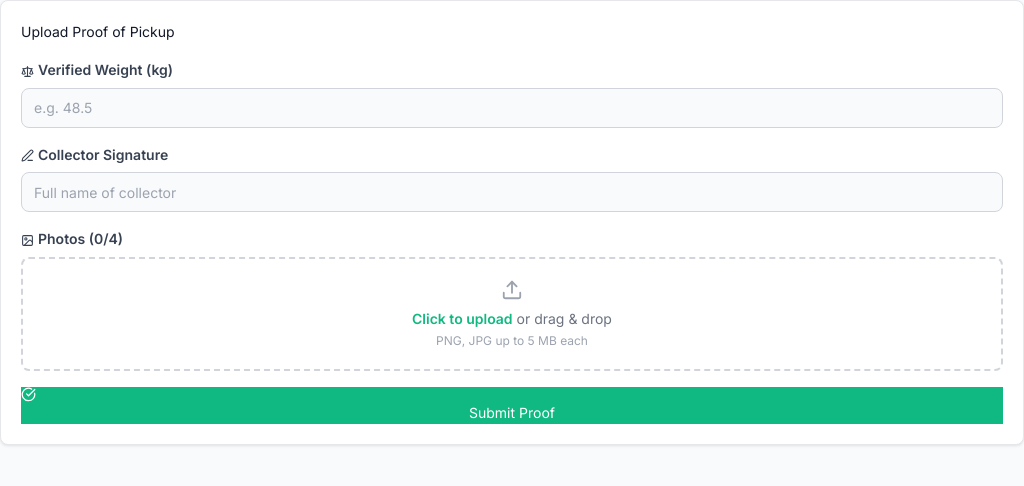
Test: ProofUpload › shows validation error for missing photo
Type "50" into the number field labelled "Verified Weight (kg)" at point(512, 108), box [21,88,1003,128]
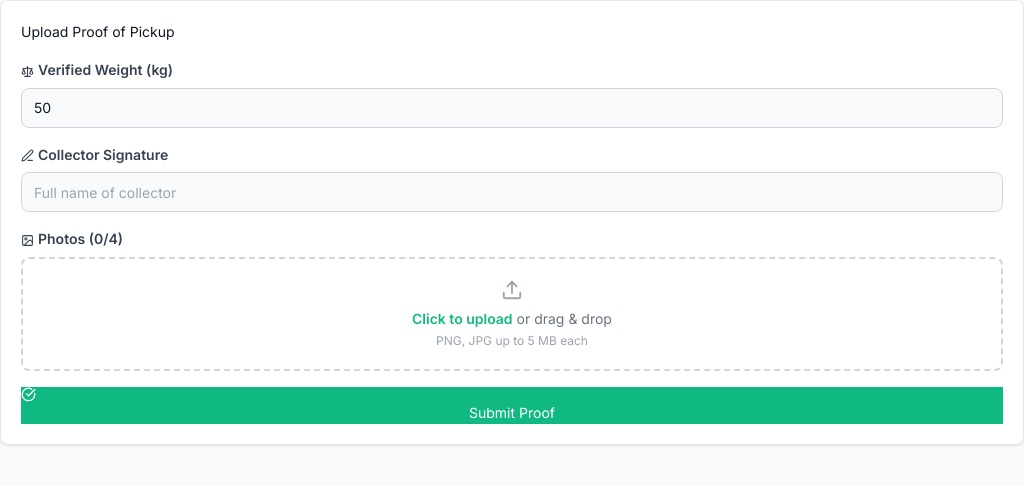
Click the button "Submit Proof" at point(512, 405), box [21,387,1003,424]
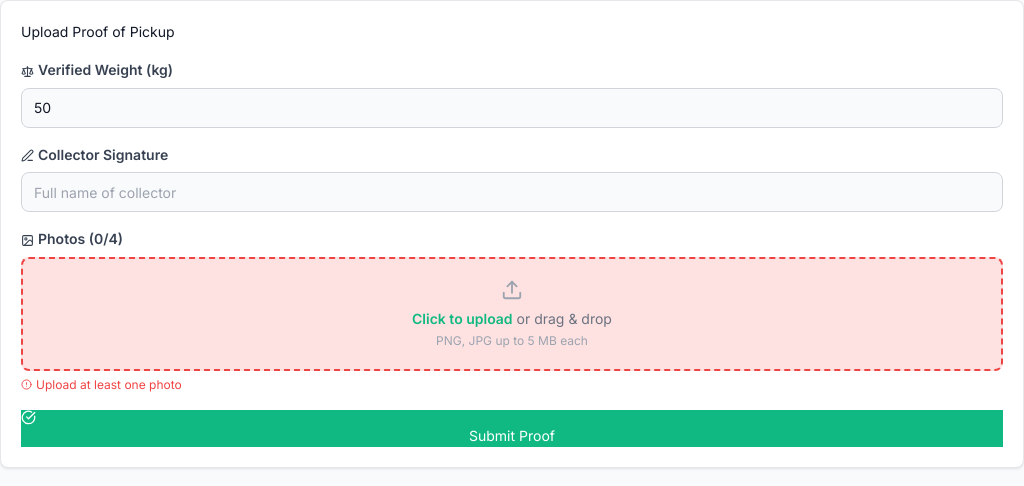
Expected: the text "Upload at least one photo" is shown, [21,377,182,392]
